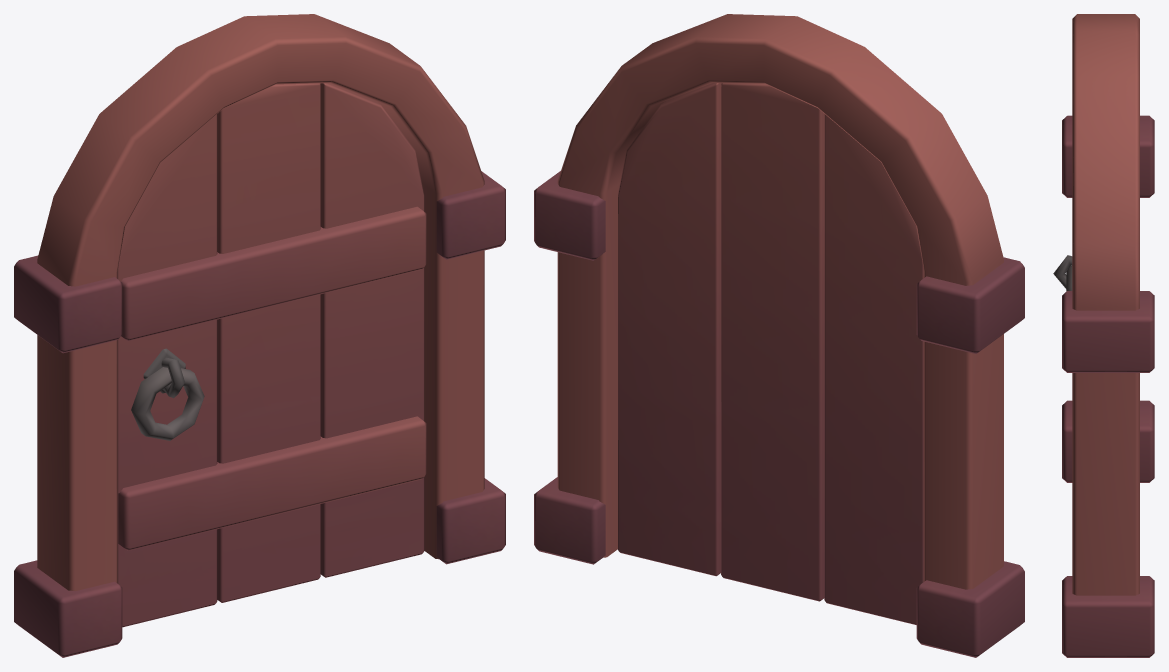
Rendered from door2.glb.
3 views of the same model, side by side, from view 1: azimuth 30°, elevation 25°; view 2: azimuth 150°, elevation 25°; view 3: azimuth 270°, elevation 25° (orthographic). The views are drawn at different scales.
Visible parts, largest first — view 1: Door.021, Wood.arch.020; view 2: Door.021, Wood.arch.020; view 3: Wood.arch.020, Door.021.
Boxes of the visible parts, x1=… form: Door.021: x1=117, y1=83, x2=426, y2=627; Wood.arch.020: x1=14, y1=14, x2=505, y2=657; Door.021: x1=618, y1=83, x2=923, y2=624; Wood.arch.020: x1=534, y1=14, x2=1024, y2=657; Wood.arch.020: x1=1062, y1=14, x2=1154, y2=657; Door.021: x1=1053, y1=255, x2=1072, y2=291.
Size of the model in its own units: 1.88 by 2.26 by 0.3947.
Materials: 1 (1 with a texture image).
